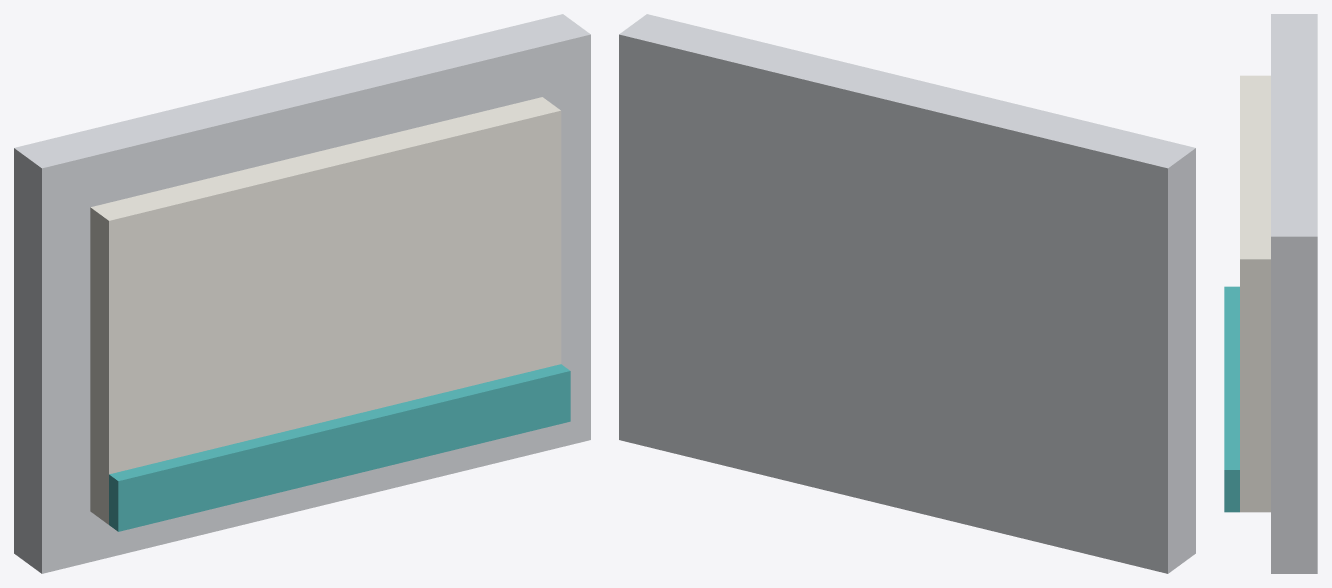
The model's file is retro-diner-and-roadside-motel-motel-room-number-plate-600501d3__37348.glb.
3 renders of one model, left to right at view 1: azimuth 30°, elevation 25°; view 2: azimuth 150°, elevation 25°; view 3: azimuth 270°, elevation 25°, orthographic. The views are drawn at different scales.
Visible parts, largest first — view 1: motel-room-number-plate-cream, motel-room-number-plate-chrome, motel-room-number-plate-turquoise; view 2: motel-room-number-plate-chrome; view 3: motel-room-number-plate-chrome, motel-room-number-plate-cream, motel-room-number-plate-turquoise.
Boxes of the visible parts, x1,y1,x2,y2 form: motel-room-number-plate-cream: [90, 97, 561, 524]; motel-room-number-plate-chrome: [14, 14, 590, 573]; motel-room-number-plate-turquoise: [109, 364, 570, 531]; motel-room-number-plate-chrome: [619, 14, 1195, 573]; motel-room-number-plate-chrome: [1271, 14, 1317, 573]; motel-room-number-plate-cream: [1240, 75, 1270, 512]; motel-room-number-plate-turquoise: [1224, 286, 1239, 512].
Bounding box in the file's own units: 0.34 × 0.24 × 0.06.
